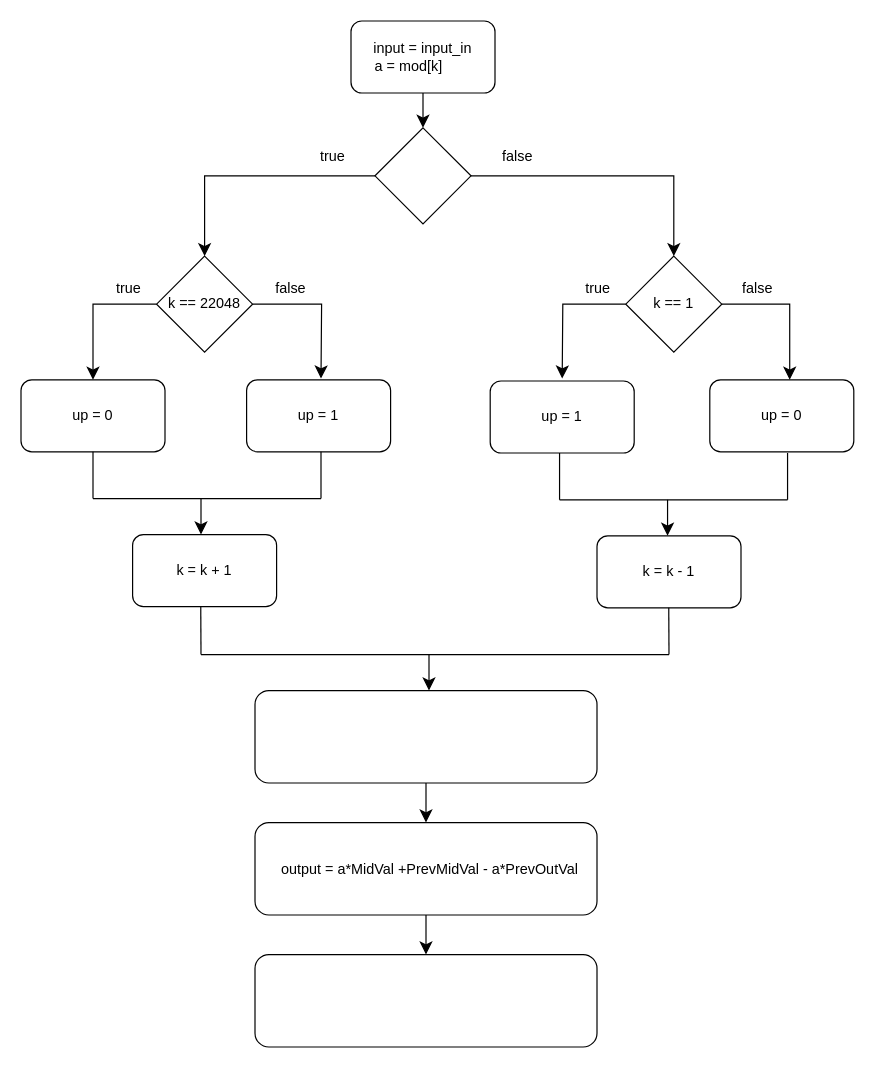
This 875x1068 diagram has some shape labels left out. Each missing label, with the centre of its shape:
MidVal = a*input + PrevInVal - a*PrevMidVal: the point at 425,736
out = output + input: the point at 425,1000
up == 1: the point at 422,175
